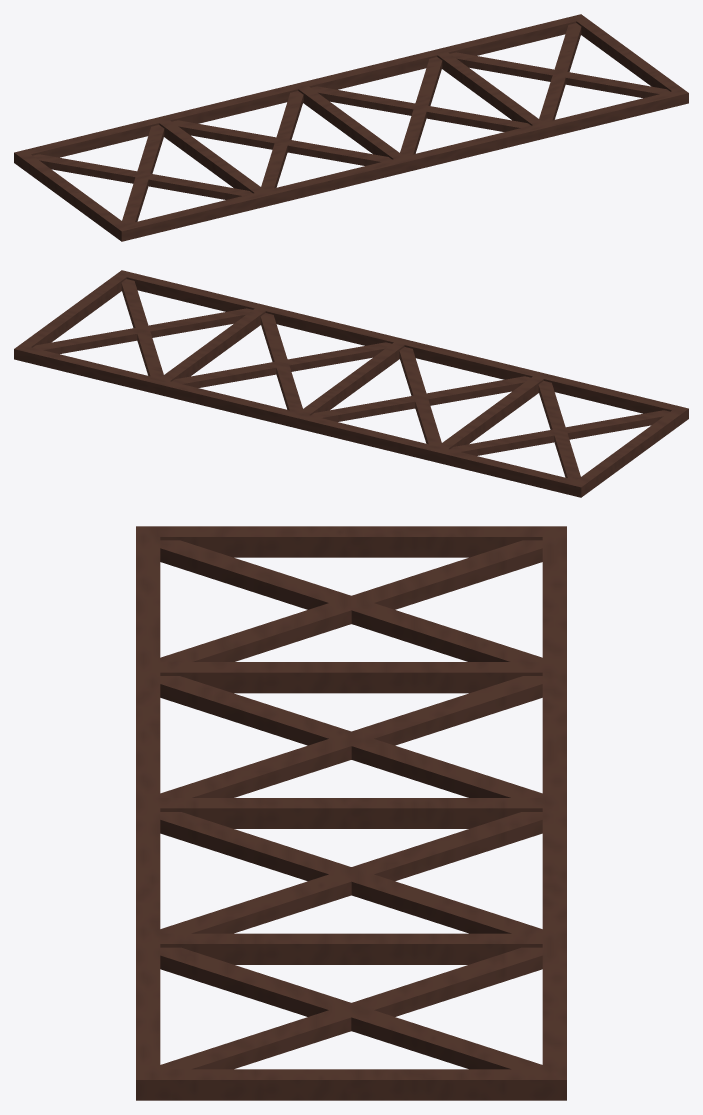
The model's file is IronThing1.fbx.
The picture shows the model from 3 angles, top to bottom: view 1: azimuth 30°, elevation 25°; view 2: azimuth 150°, elevation 25°; view 3: azimuth 270°, elevation 25°; orthographic projection. The views are drawn at different scales.
Visible parts, largest first — view 1: Cube.133; view 2: Cube.133; view 3: Cube.133.
Boxes of the visible parts, left/top/right/bottom form: Cube.133: left=14, top=14, right=688, bottom=241; Cube.133: left=14, top=270, right=688, bottom=497; Cube.133: left=136, top=526, right=566, bottom=1100.
Bounding box in the file's own units: 548 × 9.57 × 180.
